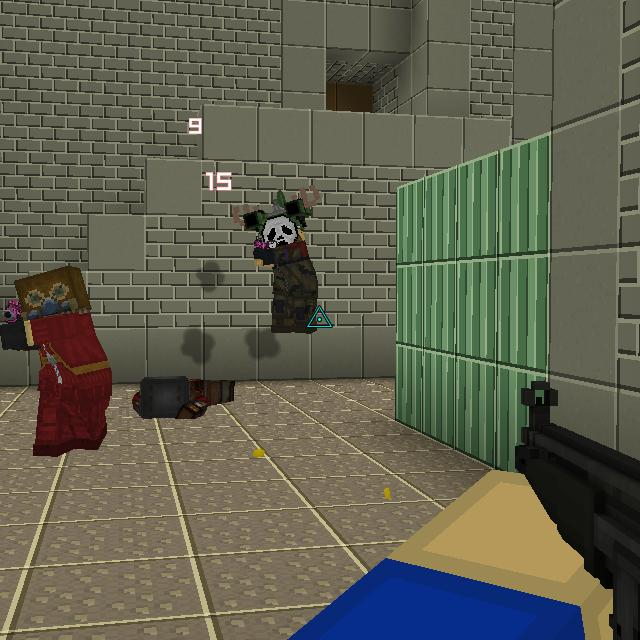enemy: (5, 265, 116, 456), (228, 183, 325, 332)
